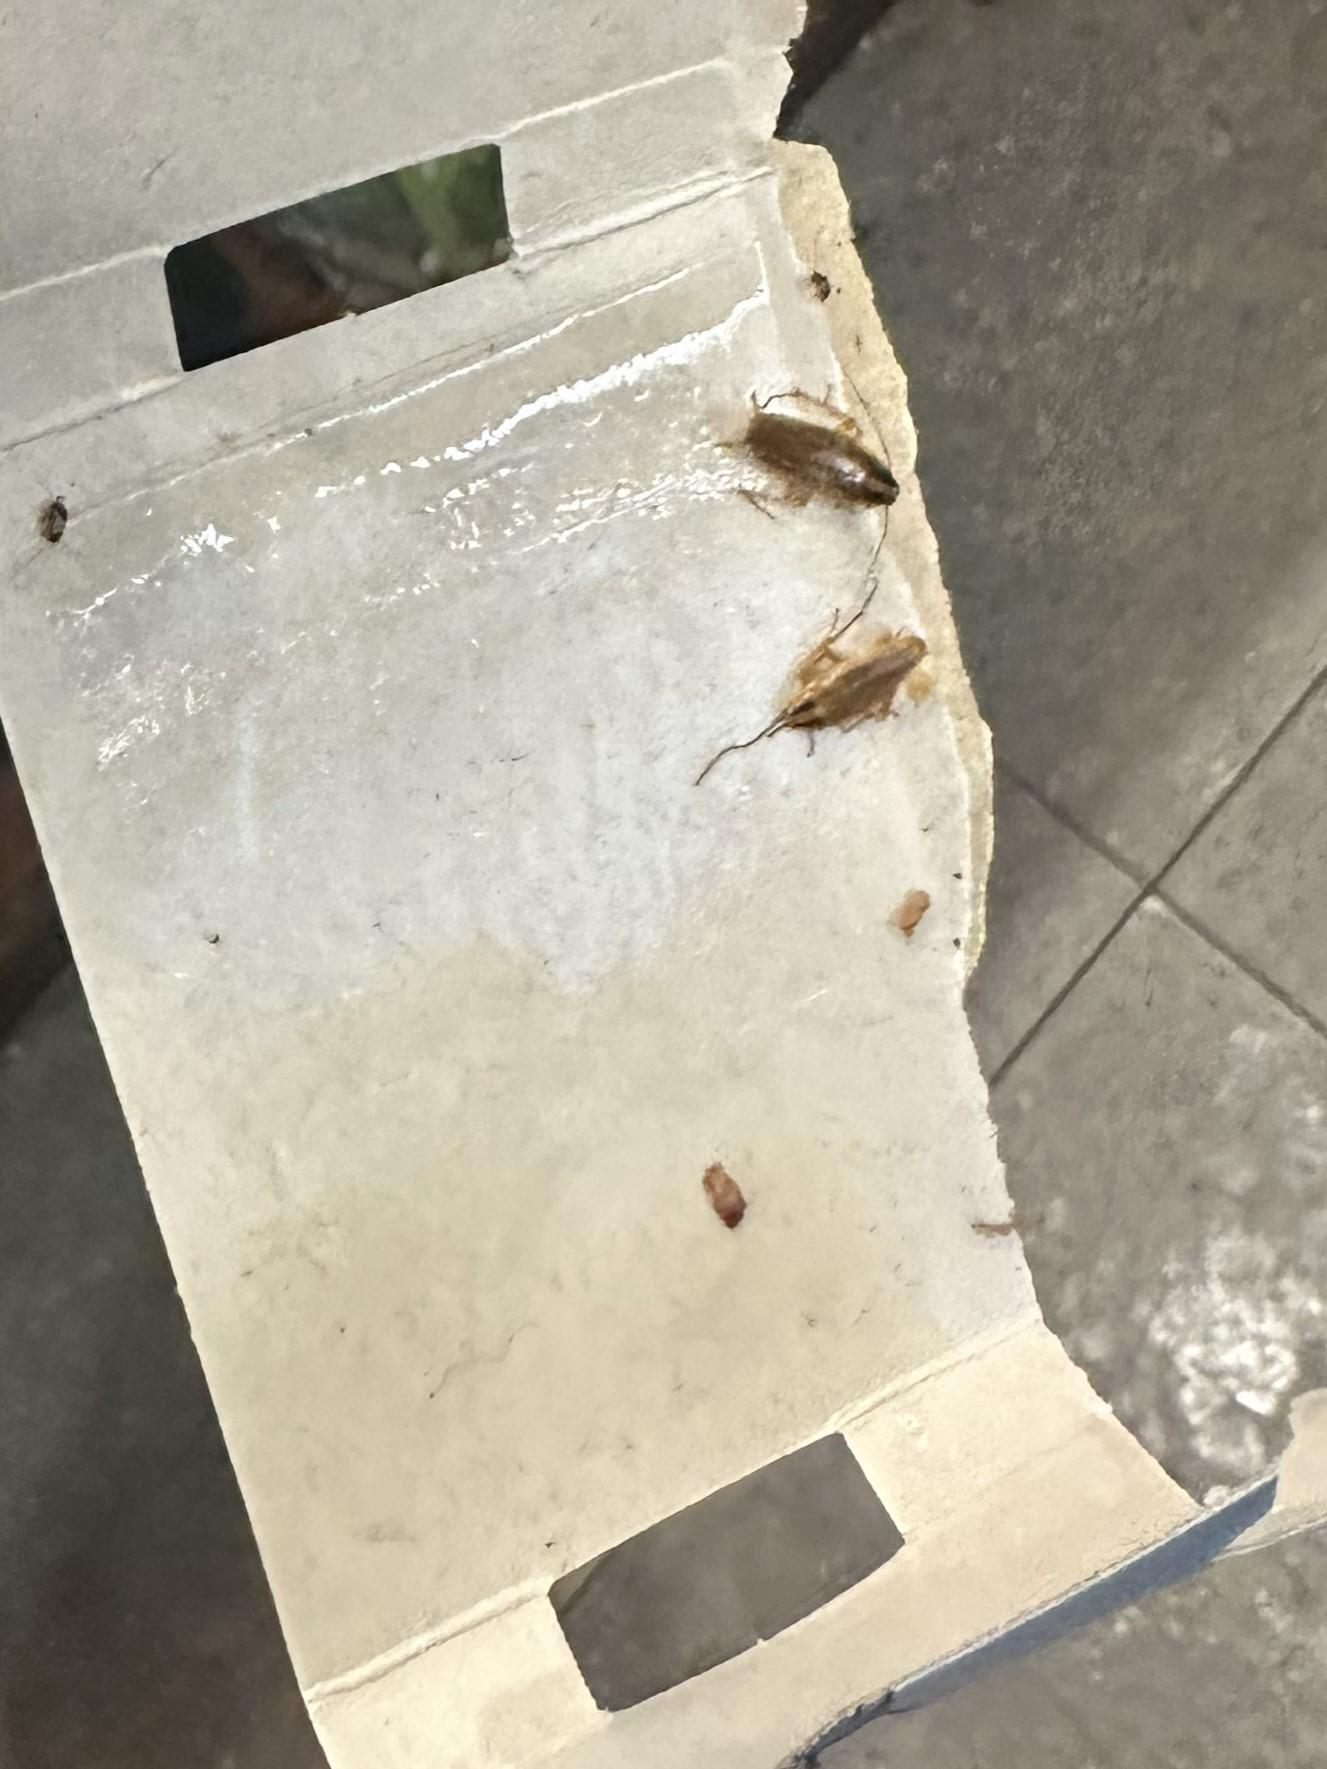cockroach: (690, 361, 979, 573), (683, 597, 941, 815)
